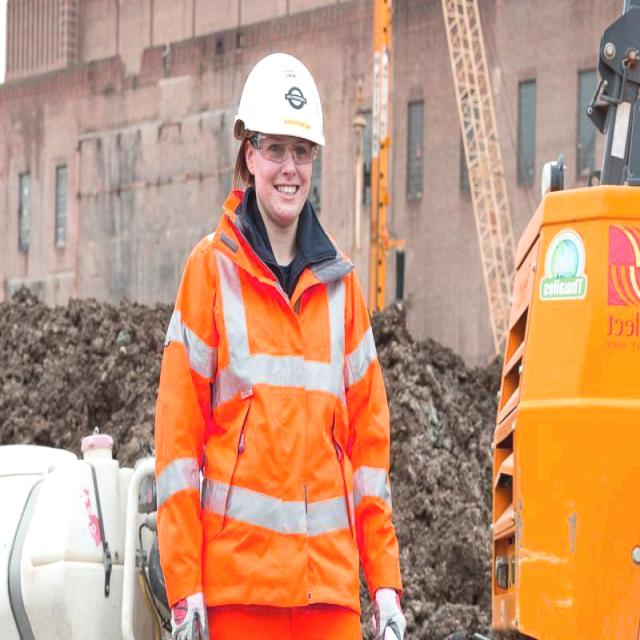face_nomask: (254, 144, 317, 228)
glasses: (254, 126, 318, 168)
hand_glove: (360, 568, 422, 639), (158, 587, 212, 640)
head_helmet: (233, 51, 327, 140)
person: (166, 53, 394, 640)
vest: (153, 217, 375, 533)
